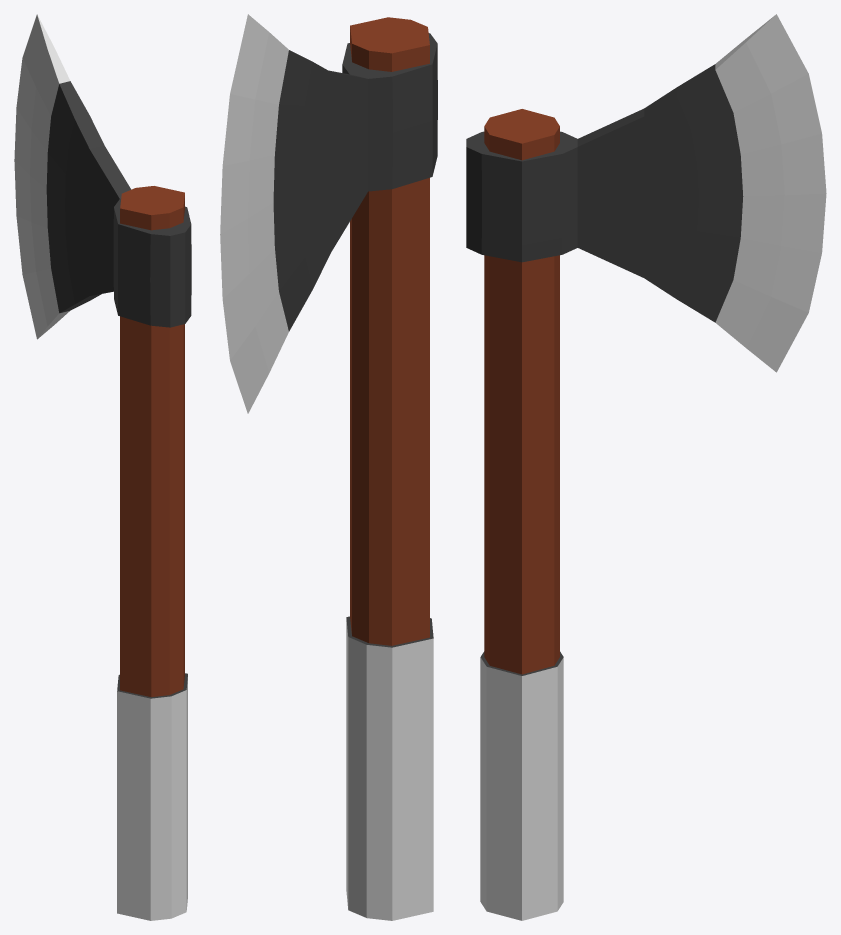
Rendered from Axe.fbx.
3 views of the same model, side by side, from view 1: azimuth 30°, elevation 25°; view 2: azimuth 150°, elevation 25°; view 3: azimuth 270°, elevation 25° (orthographic). The views are drawn at different scales.
Parts seen in each view (by area): view 1: Plane; view 2: Plane; view 3: Plane.
Boxes of the visible parts, <box> form: Plane: <box>14,14,191,920</box>; Plane: <box>220,14,437,920</box>; Plane: <box>466,14,826,920</box>.
Bounding box in the file's own units: 45.28 × 11.35 × 123.
